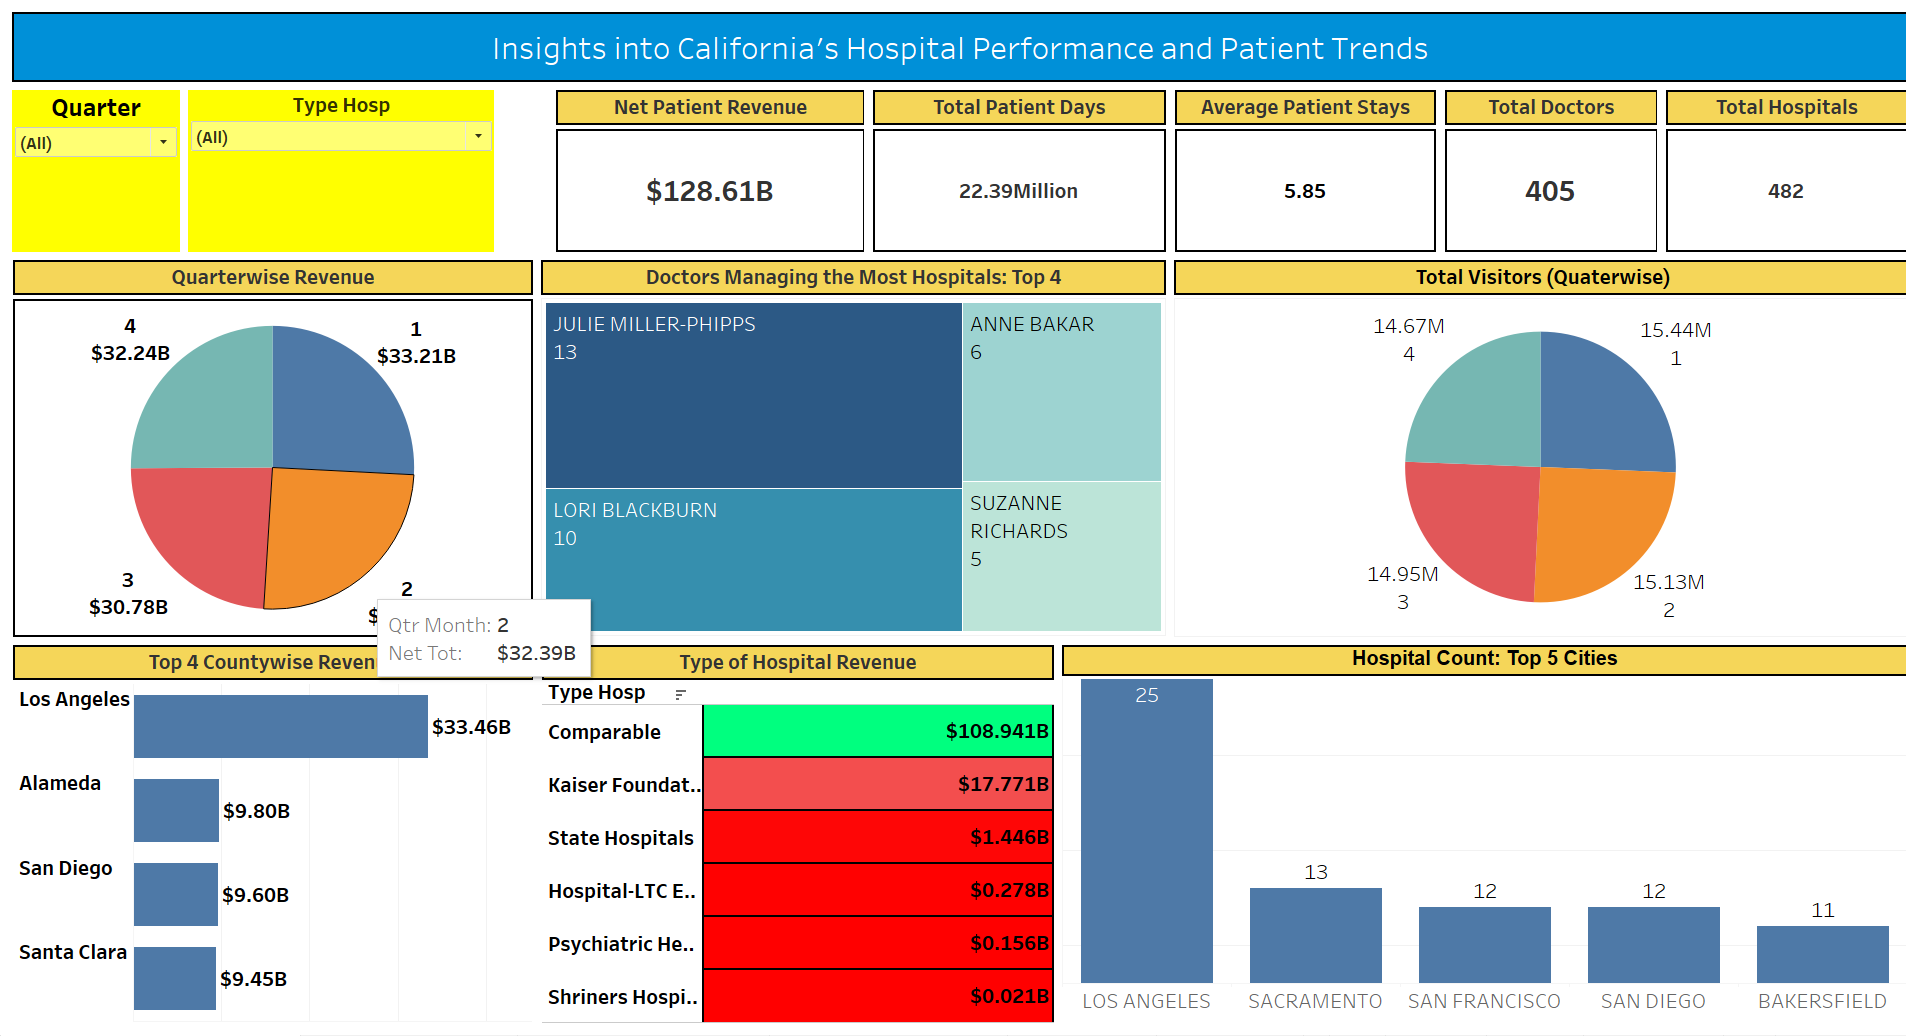

Layout of this report page (visuals, bound fields, positions):
{"tool":"powerbi","page":{"name":"DASHBOARD- SQL SERVER","canvas":[1280,720],"ordinal":0},"visuals":[{"type":"shape","box":[0,0,1280,58],"z":0},{"type":"multiRowCard","fields":{"Values":["Sum(hospital (2).NET_TOT)","Sum(hospital (2).DIS_TOT)","Sum(hospital (2).DAY_TOT)","Sum(hospital (2).VIS_TOT)","hospital (2).Doctors","hospital (2).FAC_NO"]},"box":[242.1,58.4,1037.2,75.1],"z":1000},{"type":"card","title":"Avg length of patient stay","fields":{"Values":["Sum(Query1.Overall_Average_Length_of_Stay)"]},"box":[0,58.4,242.1,75.1],"z":2000},{"type":"pieChart","title":" NET_TOT by QTR_MONTH","fields":{"Y":["Sum(hospital (2).NET_TOT)"],"Category":["hospital (2).QTR_MONTH"]},"box":[407.1,133.7,431.4,303.8],"z":3000},{"type":"pieChart","title":"TOP 4 COUNTY WISE REVENUE","fields":{"Category":["hospital (2).COUNTY_NAME"],"Y":["Sum(hospital (2).NET_TOT)"]},"box":[838.5,437.5,441.5,283.5],"z":4000},{"type":"clusteredBarChart","title":"TOP 5 CITIES HOSP COUNT","fields":{"Category":["hospital (2).CITY"],"Y":["Count(hospital (2).FAC_NAME)"]},"box":[838.5,133.7,441.5,303.8],"z":5000},{"type":"clusteredColumnChart","fields":{"Y":["Sum(hospital (2).NET_TOT)"],"Category":["hospital (2).TYPE_HOSP"]},"box":[407.1,437.5,431.4,283.5],"z":6000},{"type":"advancedSlicerVisual","fields":{"Values":["hospital (2).QTR_MONTH"]},"box":[0,336.2,407.1,101.3],"z":7000},{"type":"slicer","fields":{"Values":["hospital (2).TYPE_HOSP"]},"box":[0,131.6,407.1,204.6],"z":8000},{"type":"donutChart","fields":{"Y":["Sum(hospital (2).STF_BEDS)","Sum(hospital (2).AVL_BEDS)","Sum(hospital (2).LIC_BEDS)"]},"box":[0,437.5,407.1,283.5],"z":9000}]}

Visuals, with their boxes on the page's 1280x720 design canvas (x1, y1, x2, y2). These are canvas units, not pixel positions in the 1906x1036 screenshot, which may show the page scaled, cropped or inside an application window:
shape: select_region(0, 0, 1280, 58)
multiRowCard - Sum(hospital (2).NET_TOT) x Sum(hospital (2).DIS_TOT): select_region(242, 58, 1279, 134)
"Avg length of patient stay" card: select_region(0, 58, 242, 134)
" NET_TOT by QTR_MONTH" pieChart: select_region(407, 134, 838, 438)
"TOP 4 COUNTY WISE REVENUE" pieChart: select_region(838, 438, 1280, 721)
"TOP 5 CITIES HOSP COUNT" clusteredBarChart: select_region(838, 134, 1280, 438)
clusteredColumnChart - Sum(hospital (2).NET_TOT) x hospital (2).TYPE_HOSP: select_region(407, 438, 838, 721)
advancedSlicerVisual - hospital (2).QTR_MONTH: select_region(0, 336, 407, 438)
slicer - hospital (2).TYPE_HOSP: select_region(0, 132, 407, 336)
donutChart - Sum(hospital (2).STF_BEDS) x Sum(hospital (2).AVL_BEDS): select_region(0, 438, 407, 721)
